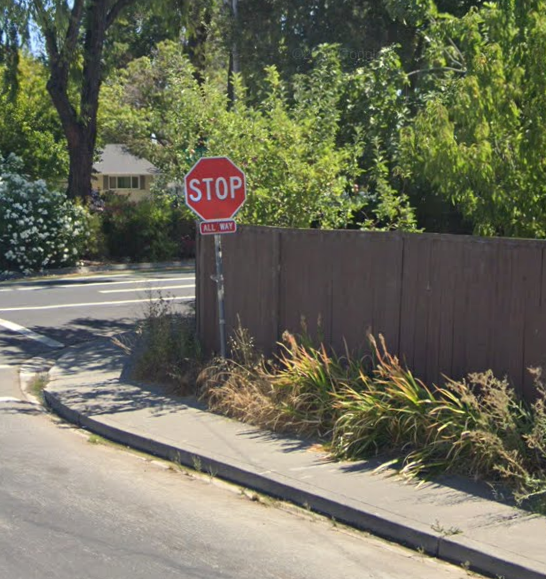stop_sign: (185, 158, 245, 220)
